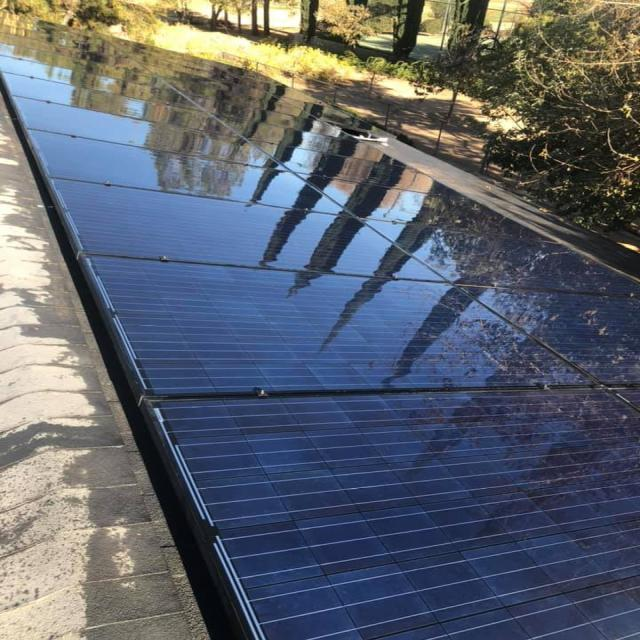clean-solar-panel: (3, 30, 637, 640)
